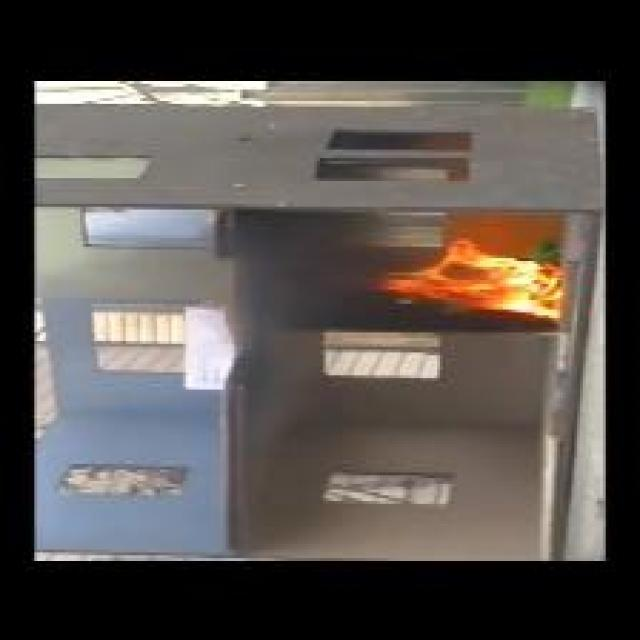Fire: (368, 238, 562, 318)
